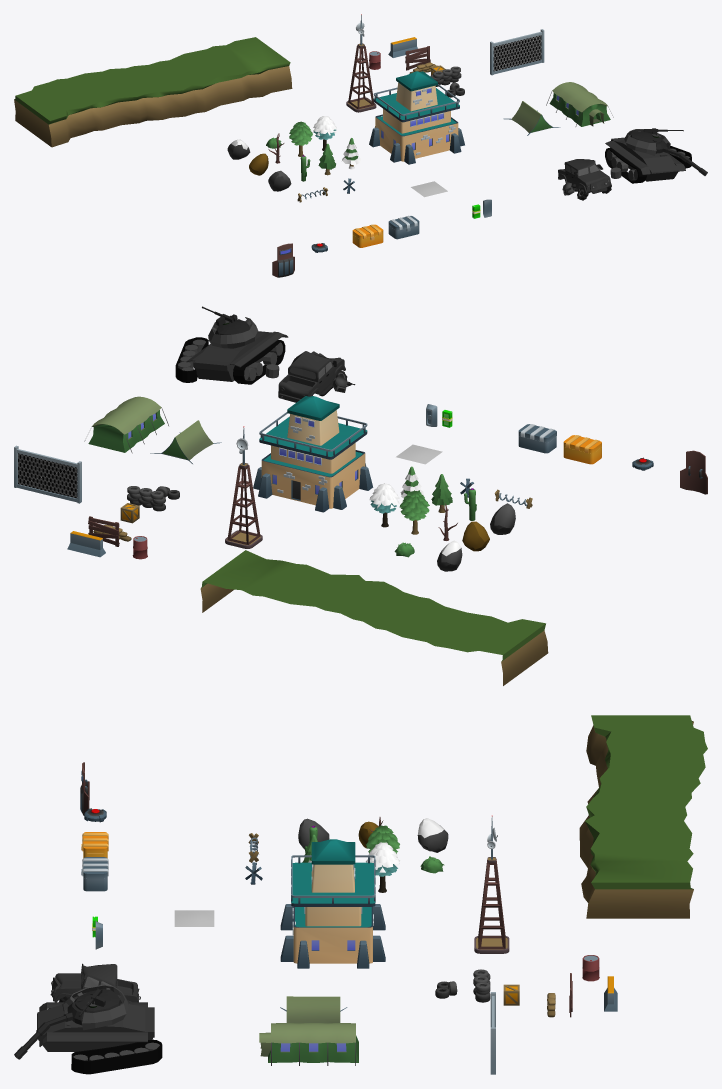
File: location.fbx
3 renders of one model, top to bottom at view 1: azimuth 30°, elevation 25°; view 2: azimuth 150°, elevation 25°; view 3: azimuth 270°, elevation 25°, orthographic. The views are drawn at different scales.
Visible parts, largest first — view 1: locEnd, base, busDestroy, pavilion, wall, humveeDestroy, radiotower, tent, shield, tree, treeSnow, barrier; view 2: locEnd, base, busDestroy, wall, pavilion, humveeDestroy, radiotower, tent, shield, tree, treeSnow, wheel (+5 smaller); view 3: locEnd, base, busDestroy, pavilion, humveeDestroy, radiotower, tent, treeSnow, rockIce, Plane.005, Cube.013, Cube.015.
Boxes of the visible parts, x1,y1,x2,y2 form: locEnd: (14, 37, 292, 147); base: (369, 71, 464, 164); busDestroy: (605, 128, 707, 183); pavilion: (546, 82, 613, 126); wall: (490, 29, 544, 75); humveeDestroy: (558, 159, 611, 200); radiotower: (346, 14, 376, 112); tent: (503, 101, 560, 135); shield: (272, 243, 294, 277); tree: (289, 121, 312, 156); treeSnow: (313, 116, 336, 150); barrier: (405, 46, 430, 70); locEnd: (200, 550, 548, 685); base: (253, 396, 373, 512); busDestroy: (175, 306, 288, 384); wall: (14, 445, 81, 503); pavilion: (84, 396, 168, 453); humveeDestroy: (278, 351, 355, 402); radiotower: (225, 426, 262, 548); tent: (150, 420, 221, 463); shield: (680, 450, 707, 494); tree: (399, 490, 429, 534); treeSnow: (369, 483, 399, 527); wheel: (127, 486, 165, 511); locEnd: (579, 715, 707, 918); base: (280, 839, 385, 968); busDestroy: (14, 984, 162, 1074); pavilion: (259, 1023, 358, 1065); humveeDestroy: (50, 963, 140, 1002); radiotower: (474, 815, 509, 953); tent: (280, 996, 347, 1023); treeSnow: (366, 842, 399, 892); rockIce: (417, 818, 448, 852); Plane.005: (174, 910, 214, 926); Cube.013: (81, 857, 108, 878); Cube.015: (81, 832, 108, 853).
Bounding box in the file's own units: 3859 × 823 × 3501.
